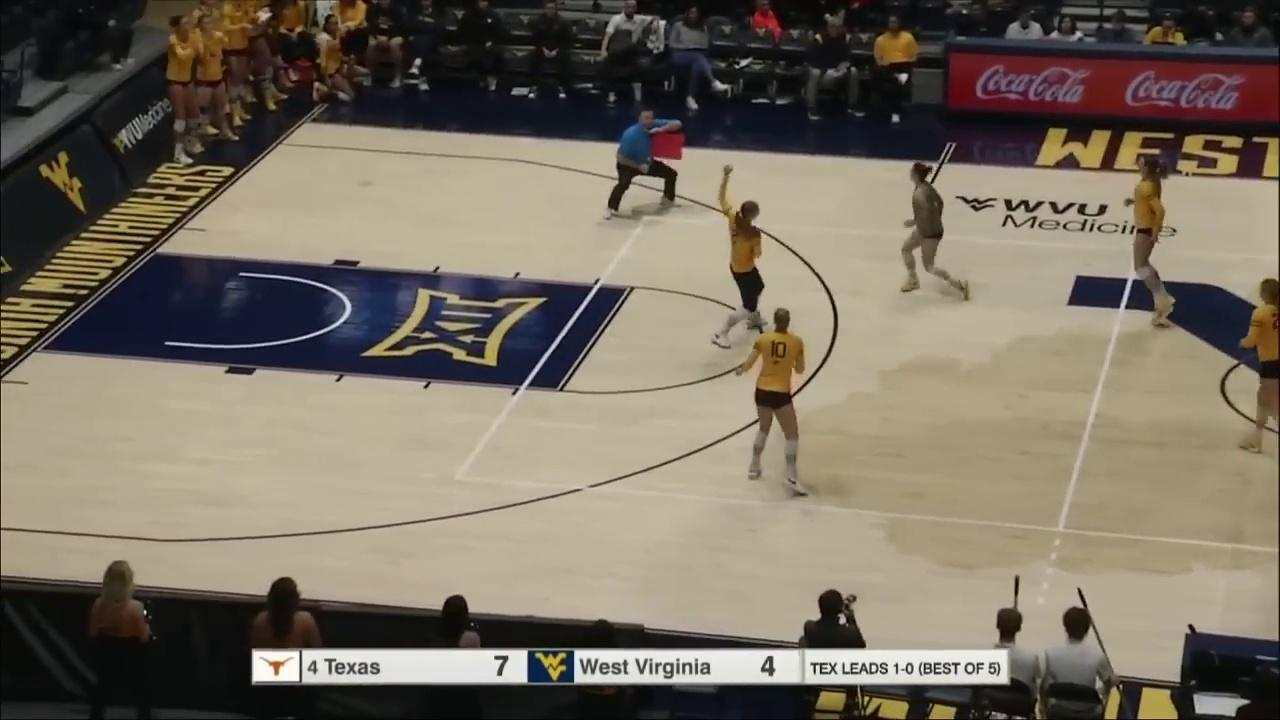player: (743, 309, 815, 494), (898, 161, 977, 298), (1123, 153, 1178, 329), (713, 195, 772, 349), (1236, 275, 1280, 457)
refree: (603, 107, 688, 222)
